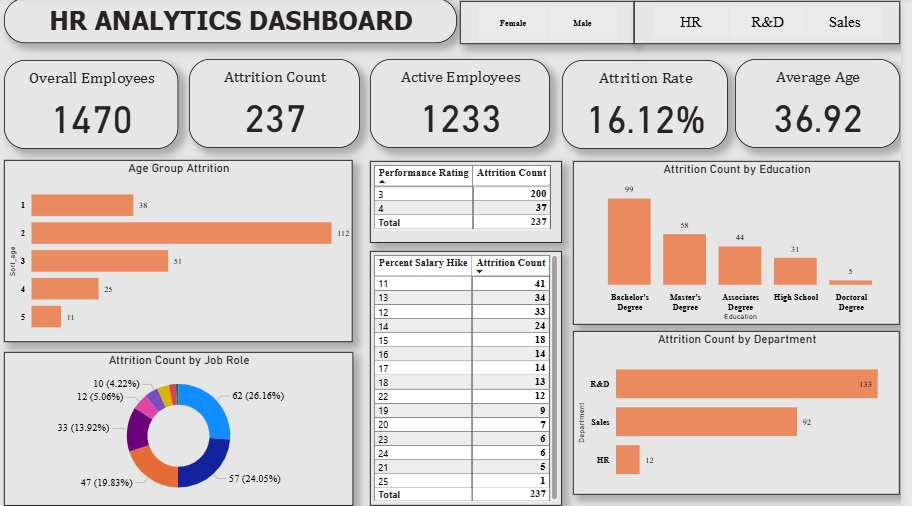

This screenshot's page, from the dashboard's own definition file:
{"tool":"powerbi","page":{"name":"Page 1","canvas":[1280,720],"ordinal":0},"visuals":[{"type":"textbox","title":"HR ANALYTICS DASHBOARD","box":[9.6,0,642.2,64.5],"z":0},{"type":"card","title":"Overall Employees","fields":{"Values":["Sum(HR data.Employee Count)"]},"box":[9.9,87.9,246.6,126.1],"z":1000},{"type":"card","title":"Attrition Count","fields":{"Values":["Sum(HR data.Attrition Count)"]},"box":[272.1,86.5,242.4,126.1],"z":2000},{"type":"card","title":"Active Employees","fields":{"Values":["Sum(HR data.CF_current Employee)"]},"box":[528.7,86.5,255.1,126.1],"z":3000},{"type":"card","title":"Attrition Rate","fields":{"Values":["HR data.Attrition Rate"]},"box":[800.8,87.9,235.3,126.1],"z":4000},{"type":"card","title":"Average Age","fields":{"Values":["Avg(HR data.Age)"]},"box":[1046,86.5,233.9,126.1],"z":5000},{"type":"slicer","fields":{"Values":["HR data.Gender"]},"box":[656.2,4.3,246.6,60.9],"z":6000},{"type":"slicer","fields":{"Values":["HR data.Department"]},"box":[902.8,4.3,377,60.9],"z":7000},{"type":"barChart","title":"Age Group Attrition","fields":{"Y":["Sum(HR data.Attrition Count)"],"Category":["HR data.Sort_age"]},"box":[9.8,229.9,494,258],"z":8000},{"type":"pivotTable","fields":{"Rows":["HR data.Performance Rating"],"Values":["Sum(HR data.Attrition Count)"]},"box":[528.7,231,272.1,116.2],"z":9000},{"type":"pivotTable","fields":{"Rows":["HR data.Percent Salary Hike"],"Values":["Sum(HR data.Attrition Count)"]},"box":[528.7,358.6,272.1,361.4],"z":10000},{"type":"columnChart","title":"Attrition Count by Education","fields":{"Category":["HR data.Education"],"Y":["Sum(HR data.Attrition Count)"]},"box":[816.4,231,463.5,232.4],"z":11000},{"type":"barChart","title":"Attrition Count by Department","fields":{"Category":["HR data.Department"],"Y":["Sum(HR data.Attrition Count)"]},"box":[816.4,472,463.5,232.4],"z":12000},{"type":"donutChart","title":"Attrition Count by Job Role","fields":{"Category":["HR data.Job Role"],"Y":["Sum(HR data.Attrition Count)"]},"box":[9.7,501.9,494.6,218.4],"z":13000}]}

Visuals, with their boxes in screenshot pixels (x1, y1, x2, y2), scaled from the page's 1280x720 canvas onto the 912x506 screenshot:
"HR ANALYTICS DASHBOARD" textbox: {"x1": 7, "y1": 0, "x2": 464, "y2": 45}
"Overall Employees" card: {"x1": 7, "y1": 62, "x2": 183, "y2": 150}
"Attrition Count" card: {"x1": 194, "y1": 61, "x2": 367, "y2": 149}
"Active Employees" card: {"x1": 377, "y1": 61, "x2": 558, "y2": 149}
"Attrition Rate" card: {"x1": 571, "y1": 62, "x2": 738, "y2": 150}
"Average Age" card: {"x1": 745, "y1": 61, "x2": 911, "y2": 149}
slicer - HR data.Gender: {"x1": 468, "y1": 3, "x2": 643, "y2": 46}
slicer - HR data.Department: {"x1": 643, "y1": 3, "x2": 911, "y2": 46}
"Age Group Attrition" barChart: {"x1": 7, "y1": 162, "x2": 359, "y2": 343}
pivotTable - HR data.Performance Rating x Sum(HR data.Attrition Count): {"x1": 377, "y1": 162, "x2": 571, "y2": 244}
pivotTable - HR data.Percent Salary Hike x Sum(HR data.Attrition Count): {"x1": 377, "y1": 252, "x2": 571, "y2": 505}
"Attrition Count by Education" columnChart: {"x1": 582, "y1": 162, "x2": 911, "y2": 326}
"Attrition Count by Department" barChart: {"x1": 582, "y1": 332, "x2": 911, "y2": 495}
"Attrition Count by Job Role" donutChart: {"x1": 7, "y1": 353, "x2": 359, "y2": 505}
